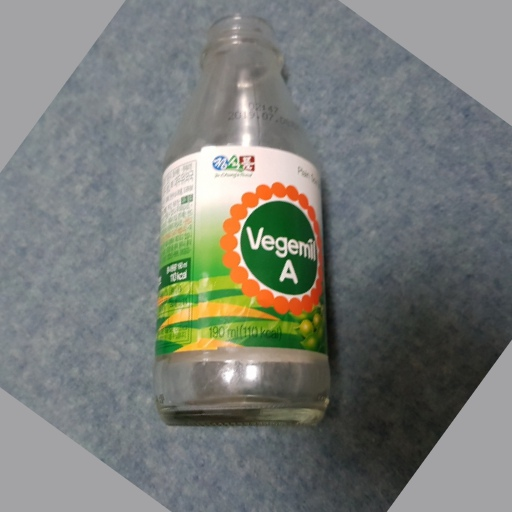Glass_4: (148, 14, 331, 433)
